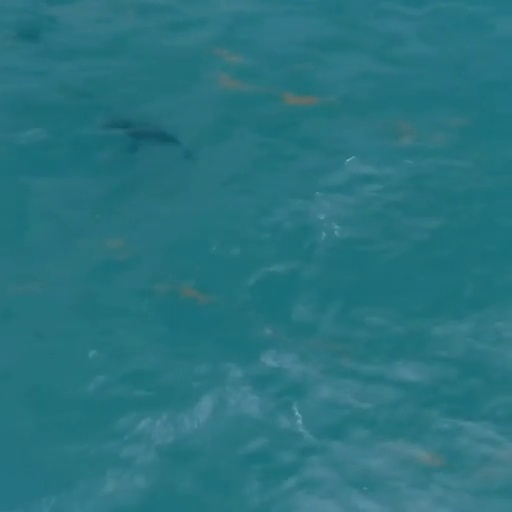shark: (102, 115, 186, 156)
